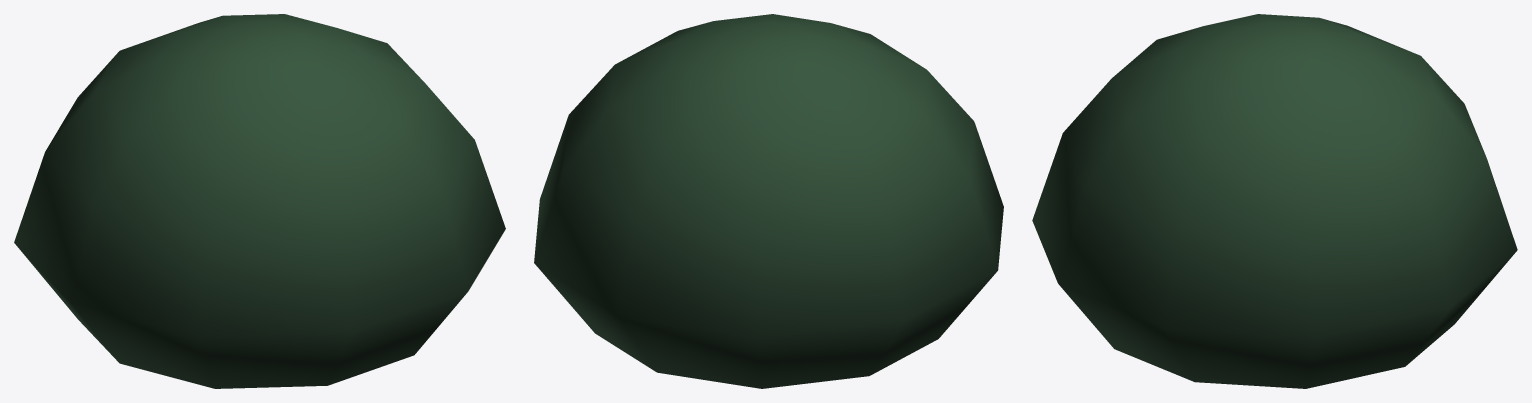
The model's file is plants-bushes-twigs-round-bush_v4.glb.
3 views of the same model, side by side, from view 1: azimuth 30°, elevation 25°; view 2: azimuth 150°, elevation 25°; view 3: azimuth 270°, elevation 25° (orthographic).
Parts seen in each view (by area): view 1: Round Bush_v4; view 2: Round Bush_v4; view 3: Round Bush_v4.
Part boxes in pixels (x1,y1,x2,y2): Round Bush_v4: (14, 14, 505, 388); Round Bush_v4: (534, 14, 1003, 388); Round Bush_v4: (1032, 14, 1517, 388).
Size of the model in its own units: 0.9957 by 0.6958 by 1.
